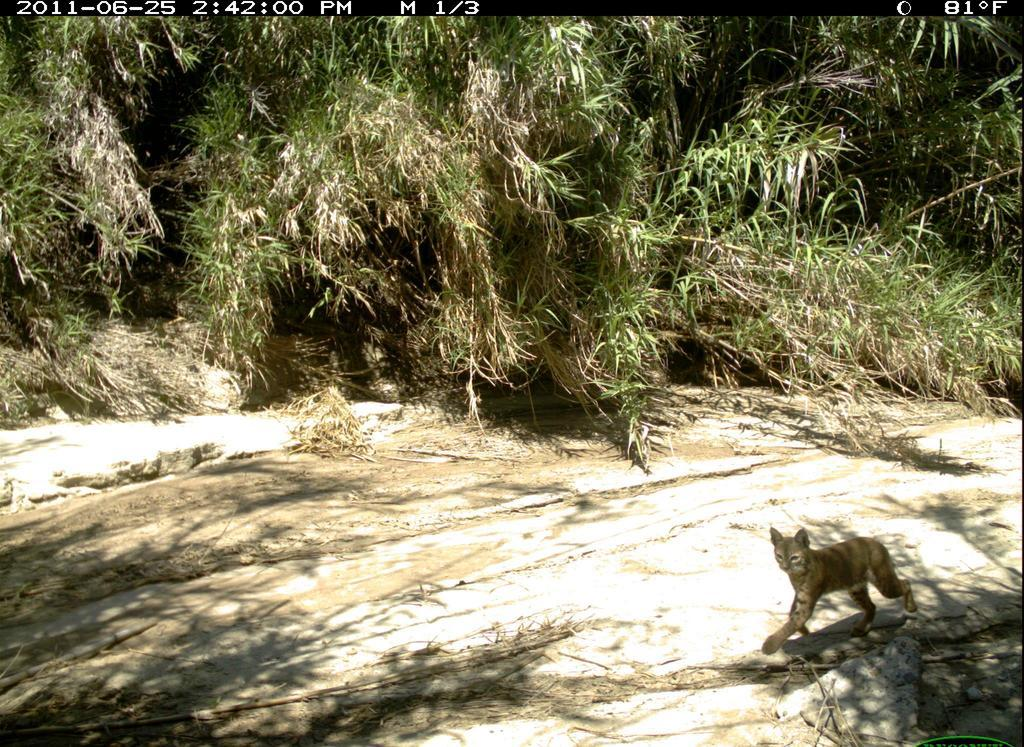bobcat: (747, 516, 927, 664)
